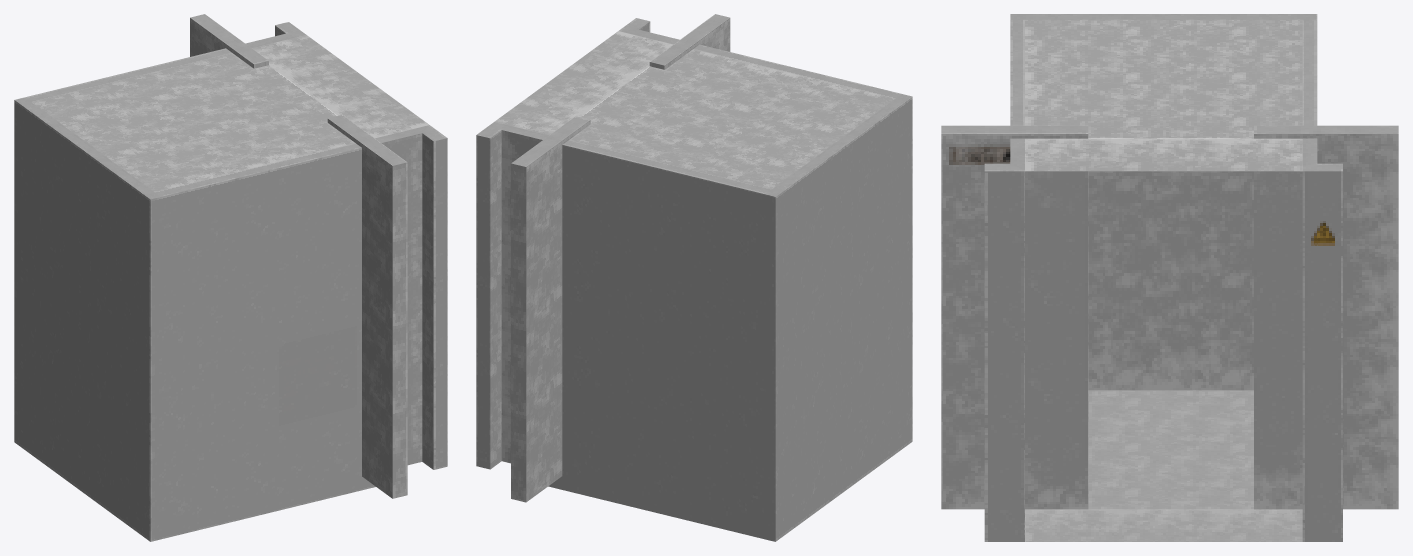
The model's file is Elevator.glb.
3 renders of one model, left to right at view 1: azimuth 30°, elevation 25°; view 2: azimuth 150°, elevation 25°; view 3: azimuth 270°, elevation 25°, orthographic. The views are drawn at different scales.
Parts seen in each view (by area): view 1: Cube.004, Cube.005, Cube, Cube.002, Cube.003; view 2: Cube.004, Cube.005, Cube, Cube.003, Cube.002; view 3: Cube.004, Cube, Cube.002, Cube.003, Cube.005, Cube.001.
Boxes of the visible parts, x1,y1,x2,y2 form: Cube.004: (14,48,375,541); Cube.005: (31,53,354,191); Cube: (245,22,447,469); Cube.002: (327,114,407,498); Cube.003: (190,14,268,68); Cube.004: (548,44,912,541); Cube.005: (569,49,895,189); Cube: (476,18,679,469); Cube.003: (511,116,590,502); Cube.002: (649,14,730,69); Cube.004: (1010,14,1317,509); Cube: (984,138,1342,541); Cube.002: (941,125,1088,509); Cube.003: (1254,125,1398,509); Cube.005: (1025,19,1302,138); Cube.001: (1025,509,1302,541).
Bounding box in the file's own units: 5.4 × 6.26 × 6.63.
1 material, 1 textured.
